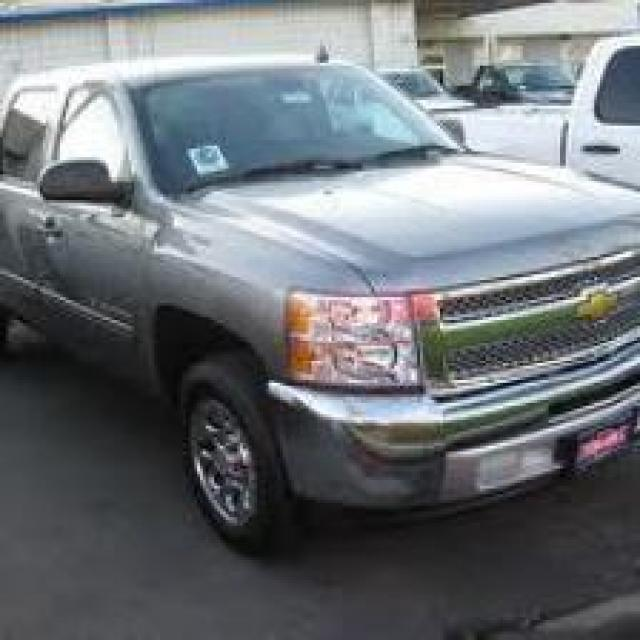damaged: (323, 423, 443, 506)
